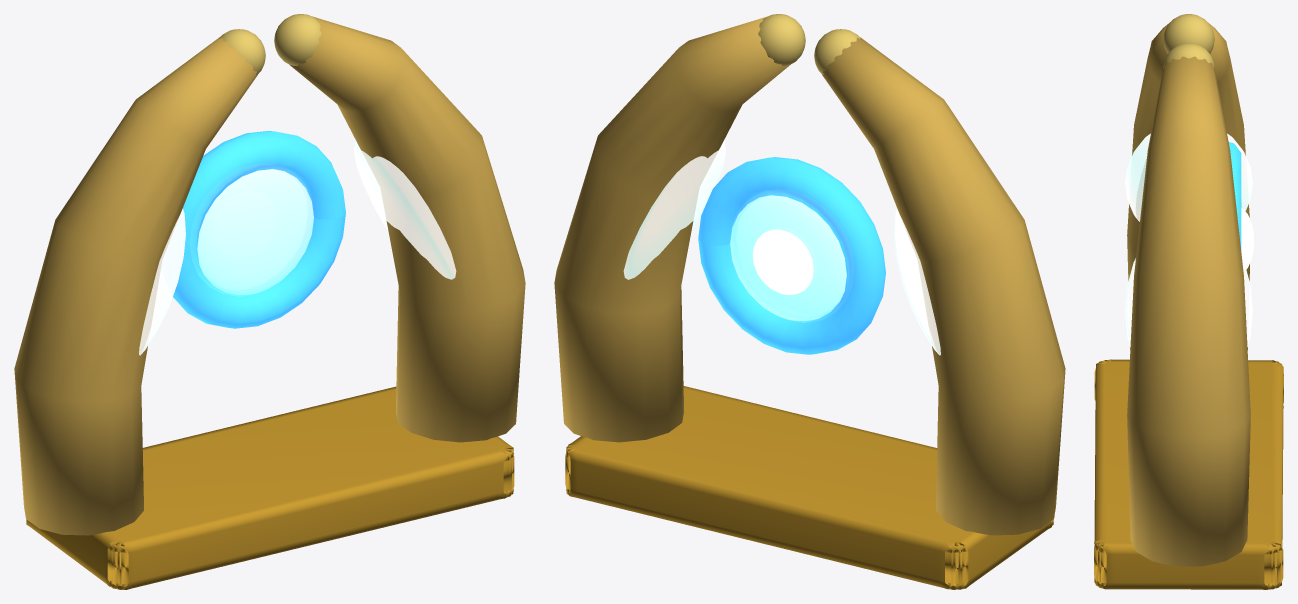
The model's file is b_stargate.glb.
3 renders of one model, left to right at view 1: azimuth 30°, elevation 25°; view 2: azimuth 150°, elevation 25°; view 3: azimuth 270°, elevation 25°, orthographic. The views are drawn at different scales.
Parts seen in each view (by area): view 1: sg_tuskL.001, sg_tuskR.001, sg_base.001, sg_vortex.001, sg_vortexIn.001, sg_paneR.001, sg_paneL.001, sg_tipR.001, sg_tipL.001; view 2: sg_tuskL.001, sg_tuskR.001, sg_base.001, sg_vortex.001, sg_vortexIn.001, sg_paneR.001, sg_vortexCore.001, sg_paneL.001, sg_tipR.001, sg_tipL.001; view 3: sg_tuskR.001, sg_base.001, sg_tuskL.001, sg_paneL.001, sg_tipL.001, sg_paneR.001, sg_vortex.001, sg_tipR.001, sg_vortexCore.001.
Boxes of the visible parts, <box> form: sg_tuskL.001: <box>14,37,257,535</box>; sg_tuskR.001: <box>290,16,525,442</box>; sg_base.001: <box>26,386,514,589</box>; sg_vortex.001: <box>173,131,345,328</box>; sg_vortexIn.001: <box>197,169,313,294</box>; sg_paneR.001: <box>354,141,456,279</box>; sg_paneL.001: <box>139,208,185,355</box>; sg_tipR.001: <box>274,14,321,65</box>; sg_tipL.001: <box>219,29,265,74</box>; sg_tuskL.001: <box>822,37,1065,535</box>; sg_tuskR.001: <box>554,16,789,442</box>; sg_base.001: <box>565,386,1054,589</box>; sg_vortex.001: <box>698,157,885,354</box>; sg_vortexIn.001: <box>730,195,846,321</box>; sg_paneR.001: <box>623,141,725,279</box>; sg_vortexCore.001: <box>752,229,813,294</box>; sg_paneL.001: <box>894,208,940,355</box>; sg_tipR.001: <box>758,14,805,65</box>; sg_tipL.001: <box>814,29,860,74</box>; sg_tuskR.001: <box>1127,56,1250,566</box>; sg_base.001: <box>1094,359,1283,589</box>; sg_tuskL.001: <box>1127,22,1249,349</box>; sg_paneL.001: <box>1125,133,1252,221</box>; sg_tipL.001: <box>1163,14,1214,53</box>; sg_paneR.001: <box>1125,258,1252,346</box>; sg_vortex.001: <box>1228,142,1241,249</box>; sg_tipR.001: <box>1163,43,1214,67</box>; sg_vortexCore.001: <box>1241,208,1254,269</box>.
Bounding box in the file's own units: 1.59 × 1.49 × 0.5521.
